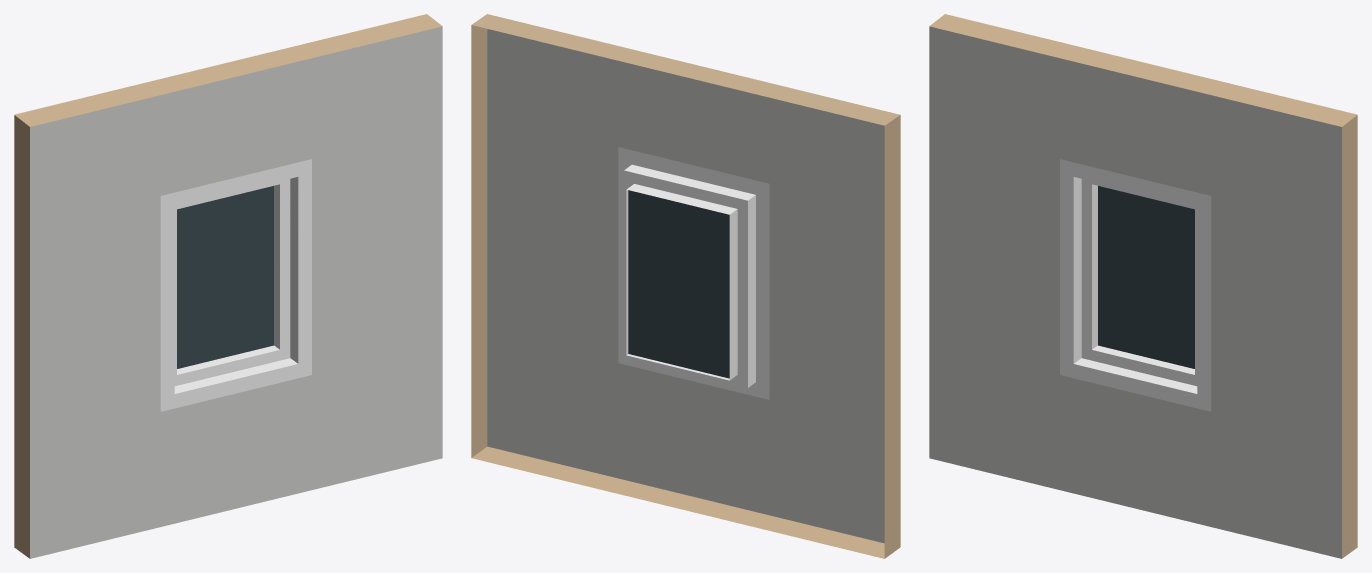
File: buildings_house-wall-window-3x3m.fbx
3 views of the same model, side by side, from view 1: azimuth 30°, elevation 25°; view 2: azimuth 150°, elevation 25°; view 3: azimuth 330°, elevation 25° (orthographic).
Visible parts, largest first — view 1: buildings_house_wall_window_3x3m; view 2: buildings_house_wall_window_3x3m; view 3: buildings_house_wall_window_3x3m.
Part boxes in pixels (bbox=[...]): buildings_house_wall_window_3x3m: bbox=[14, 14, 442, 558]; buildings_house_wall_window_3x3m: bbox=[471, 14, 900, 558]; buildings_house_wall_window_3x3m: bbox=[929, 14, 1357, 558].
Bounding box in the file's own units: 200 × 200 × 13.31.
